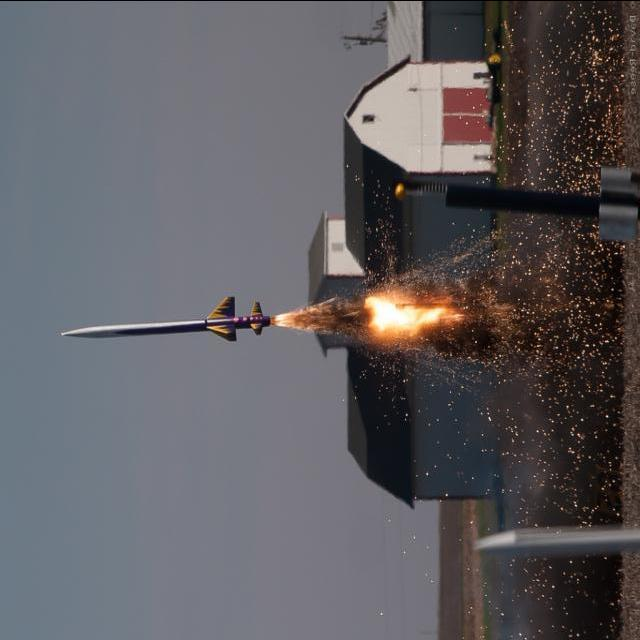missile: (59, 302, 279, 351)
